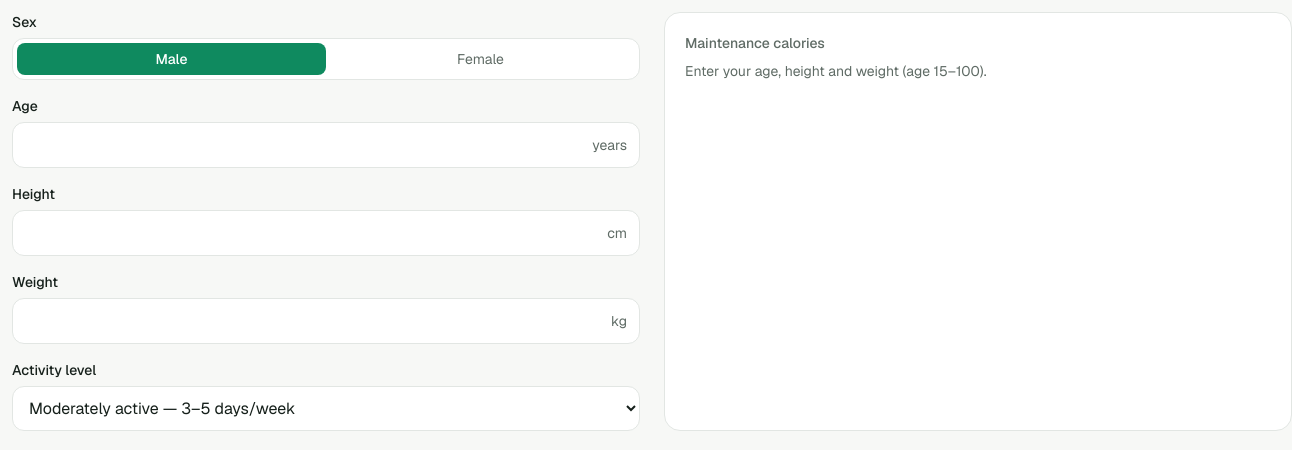
Test: CalorieCalculator › updates when sex and activity level change
Step 1. Type "30" into the number field labelled "Age" → x=303, y=145, box [13,123,592,167]
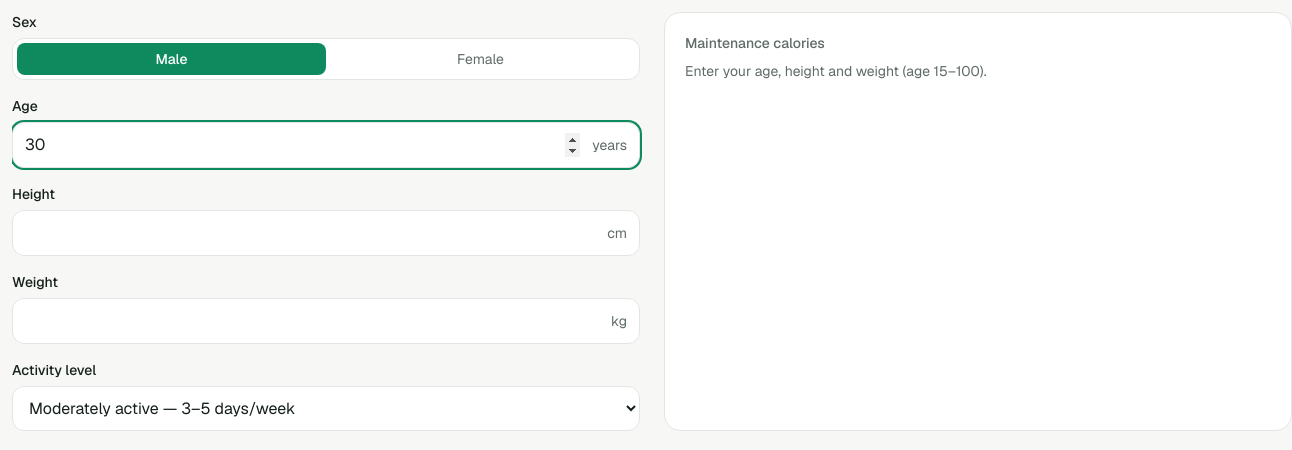
Step 2. Type "175" into the number field labelled "Height" → x=310, y=233, box [13,211,607,255]
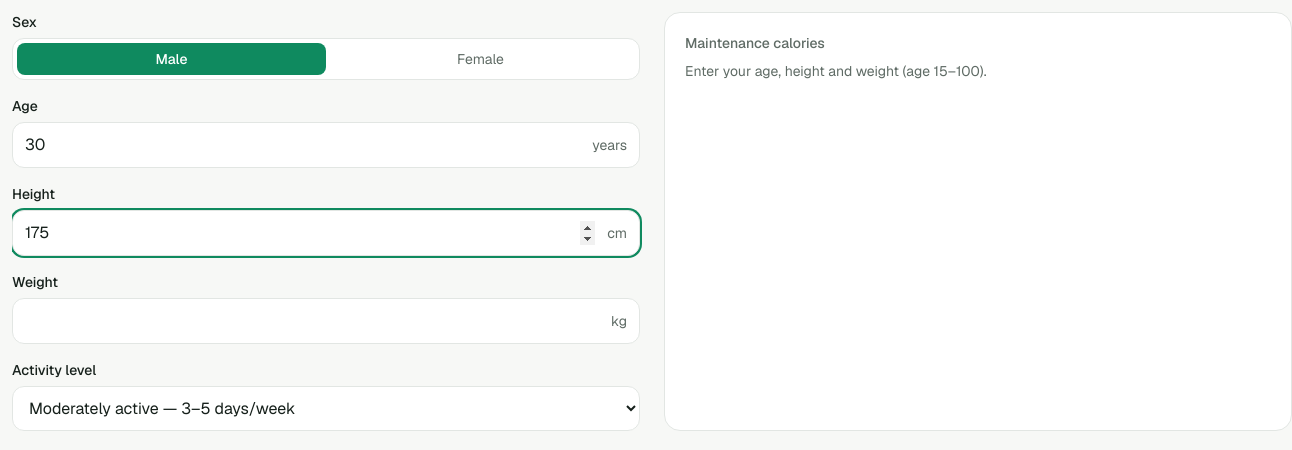
Step 3. Type "70" into the number field labelled "Weight" → x=312, y=321, box [13,299,611,343]
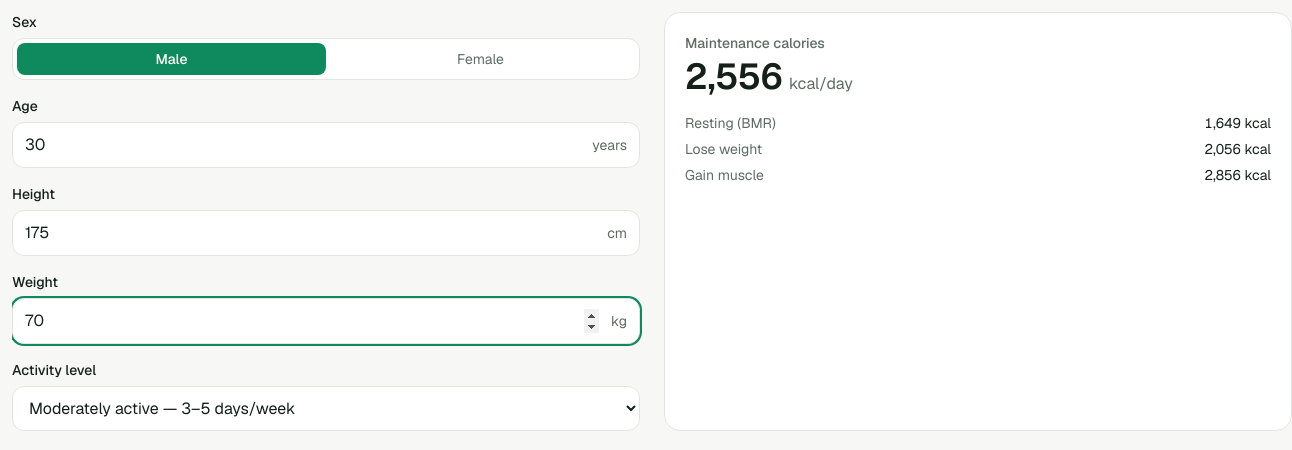
Step 4. Click the radio button labelled "Female" → x=480, y=59, box [326,43,635,75]
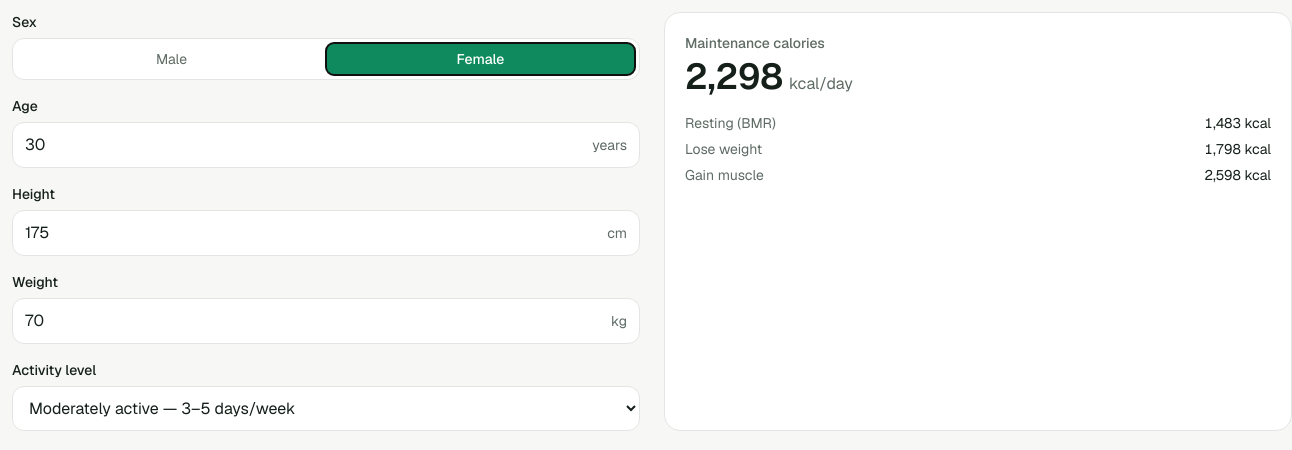
Step 5. Select "Sedentary — Little or no exercise" in the dropdown labelled "Activity level" → x=326, y=408, box [12,386,640,431]
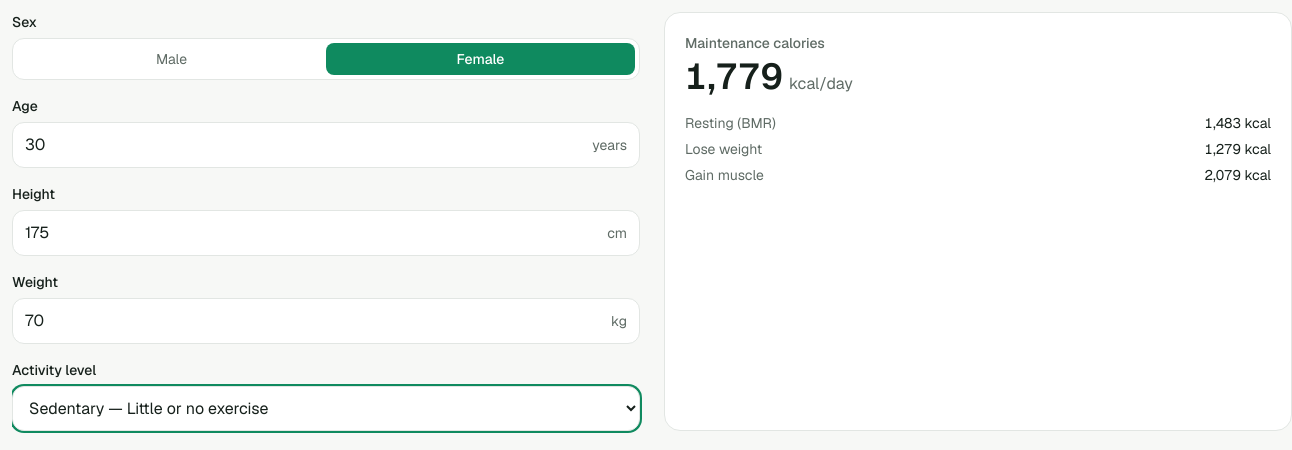
expect the text with test id "result-value" reads "1,779": met, box [685,53,783,100]
